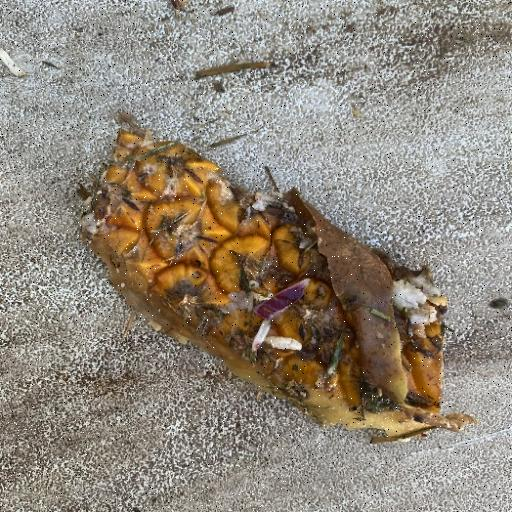Waste: (78, 112, 476, 444)
